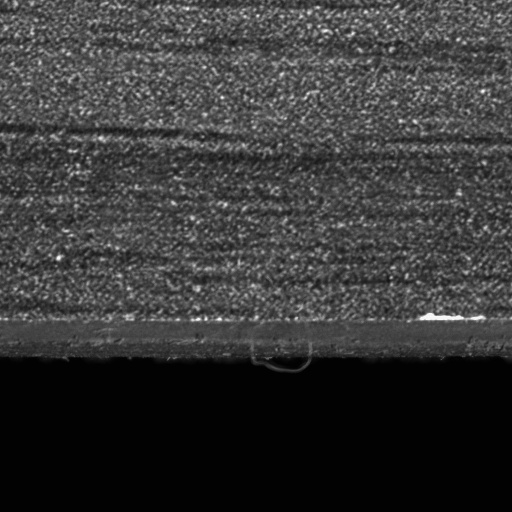huashang: (419, 313, 489, 322)
